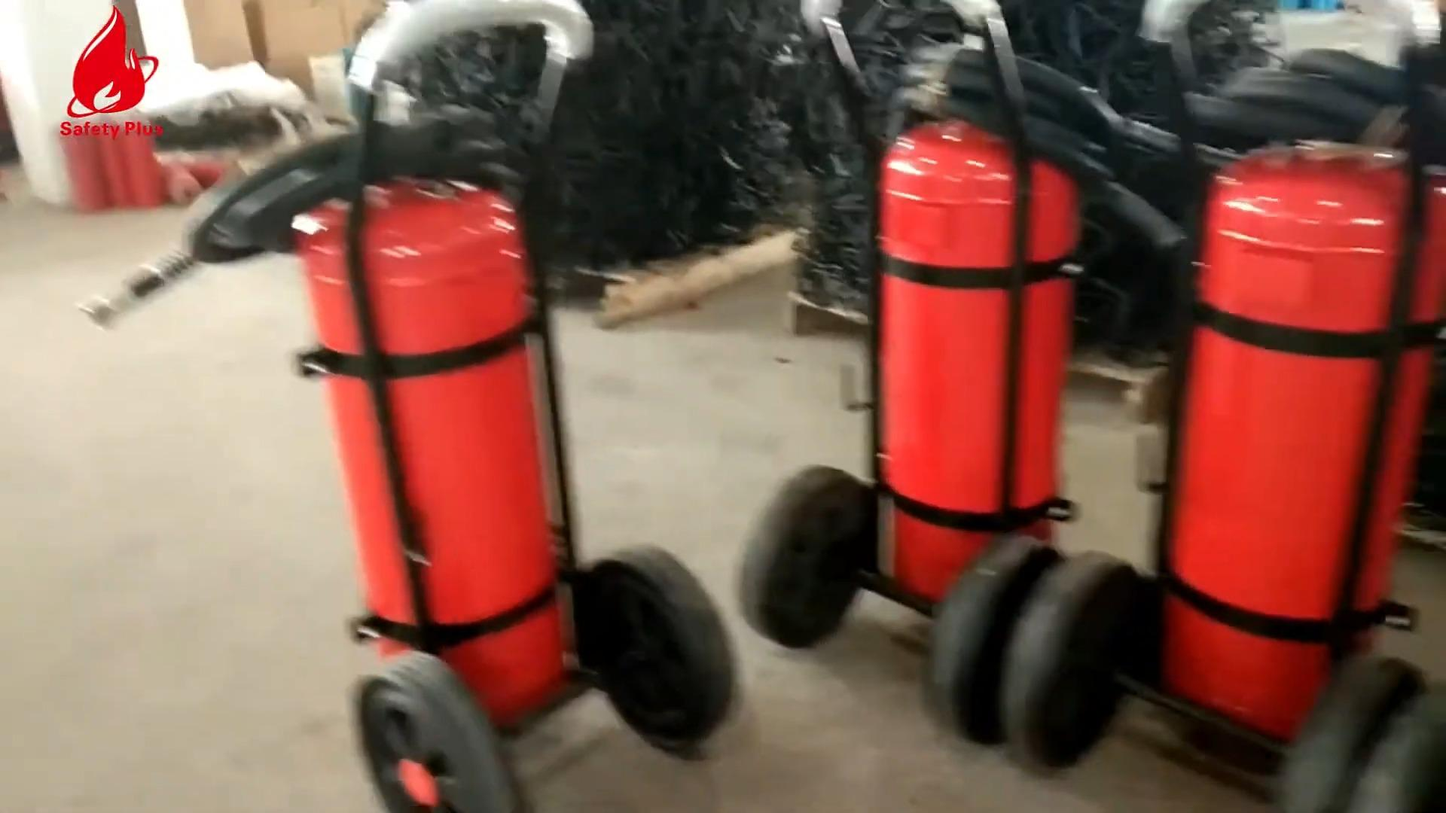FireExtinguisher: (221, 119, 625, 732), (1149, 123, 1446, 761), (857, 89, 1073, 633)
